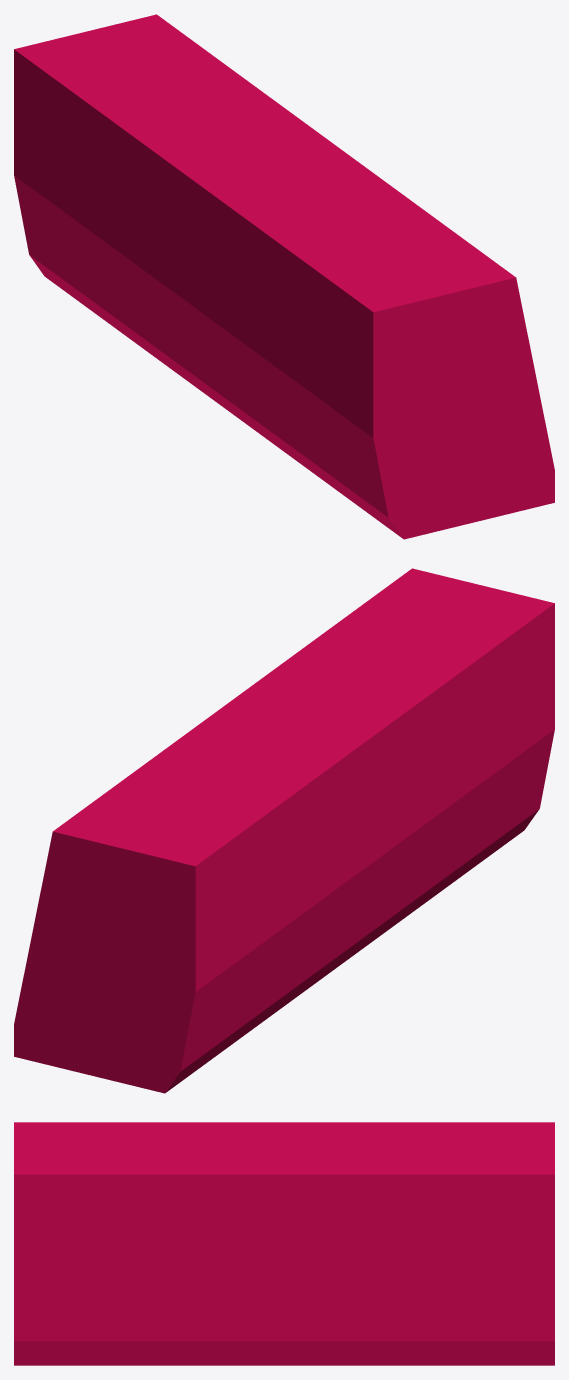
3 views of the same model, one above another, from view 1: azimuth 30°, elevation 25°; view 2: azimuth 150°, elevation 25°; view 3: azimuth 270°, elevation 25° (orthographic). The views are drawn at different scales.
Size of the model in its own units: 0.4898 by 0.605 by 1.68.
